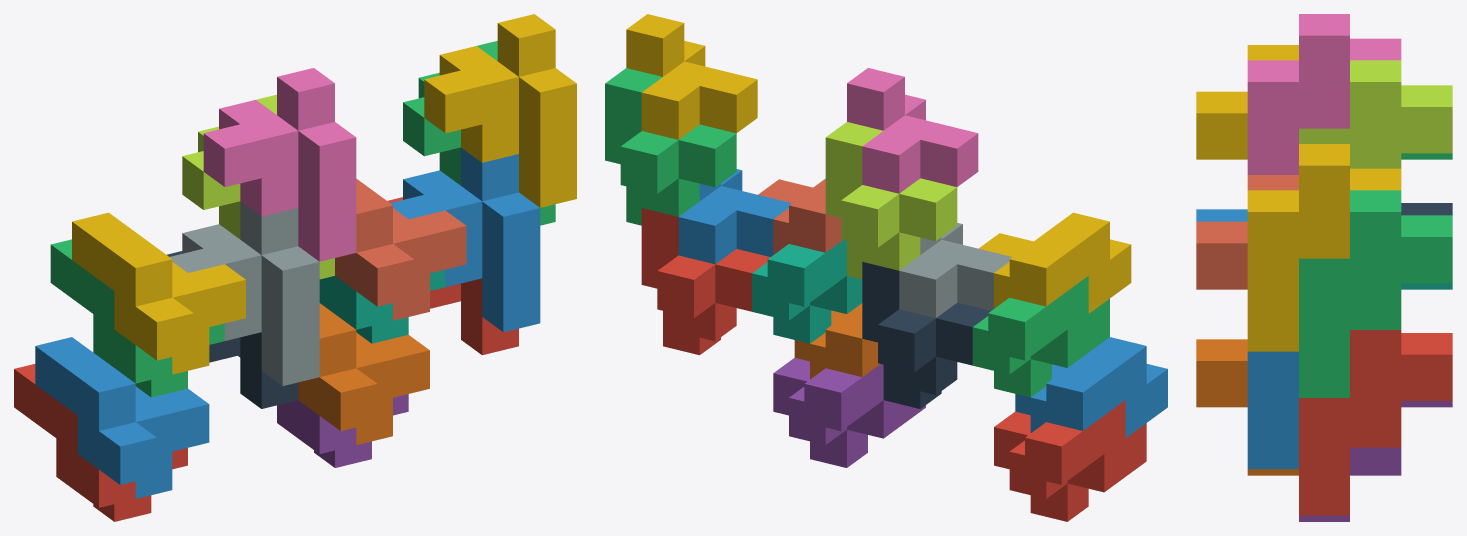
File: tiling.obj
The picture shows the model from 3 angles, left to right: view 1: azimuth 30°, elevation 25°; view 2: azimuth 150°, elevation 25°; view 3: azimuth 270°, elevation 25°; orthographic projection. The views are drawn at different scales.
Parts seen in each view (by area): view 1: copy_2_domain_4, copy_2_domain_8, copy_1_domain_2, copy_1_domain_4, copy_2_domain_6, copy_2_domain_2, copy_1_domain_6, copy_1_domain_8, copy_1_domain_1, copy_1_domain_3, copy_1_domain_5, copy_1_domain_7 (+4 smaller); view 2: copy_1_domain_1, copy_2_domain_3, copy_2_domain_7, copy_2_domain_8, copy_2_domain_4, copy_2_domain_1, copy_2_domain_5, copy_1_domain_3, copy_1_domain_5, copy_1_domain_4, copy_1_domain_2, copy_1_domain_7 (+4 smaller); view 3: copy_2_domain_7, copy_2_domain_5, copy_2_domain_8, copy_2_domain_4, copy_2_domain_3, copy_2_domain_6, copy_1_domain_4, copy_1_domain_8, copy_1_domain_6, copy_1_domain_5, copy_1_domain_2, copy_2_domain_1 (+2 smaller).
Part boxes in pixels (x1,y1,x2,y2): copy_2_domain_4: (203,68,356,261); copy_2_domain_8: (424,14,576,207); copy_1_domain_2: (35,337,209,498); copy_1_domain_4: (72,212,245,374); copy_2_domain_6: (390,147,540,332); copy_2_domain_2: (170,201,319,385); copy_1_domain_6: (298,303,429,444); copy_1_domain_8: (335,178,466,320); copy_1_domain_1: (14,364,187,521); copy_1_domain_3: (50,239,224,397); copy_1_domain_5: (238,355,408,467); copy_1_domain_7: (319,269,445,343); copy_1_domain_1: (994,400,1146,521); copy_2_domain_3: (825,122,957,279); copy_2_domain_7: (605,68,736,225); copy_2_domain_8: (626,14,757,139); copy_2_domain_4: (847,68,978,193); copy_2_domain_1: (862,262,990,408); copy_2_domain_5: (641,208,770,355); copy_1_domain_3: (972,276,1109,397); copy_1_domain_5: (773,357,925,467); copy_1_domain_4: (979,212,1131,313); copy_1_domain_2: (1015,337,1167,437); copy_1_domain_7: (752,239,862,343); copy_2_domain_7: (1299,190,1452,397); copy_2_domain_5: (1299,330,1452,515); copy_2_domain_8: (1247,144,1401,351); copy_2_domain_4: (1247,14,1401,174); copy_2_domain_3: (1299,60,1452,168); copy_2_domain_6: (1247,351,1298,469); copy_1_domain_4: (1196,45,1298,159); copy_1_domain_8: (1196,175,1298,289); copy_1_domain_6: (1196,339,1298,475); copy_1_domain_5: (1299,401,1452,521); copy_1_domain_2: (1196,209,1247,221); copy_2_domain_1: (1401,203,1452,215).
Bounding box in the file's own units: 13 × 10 × 5.
